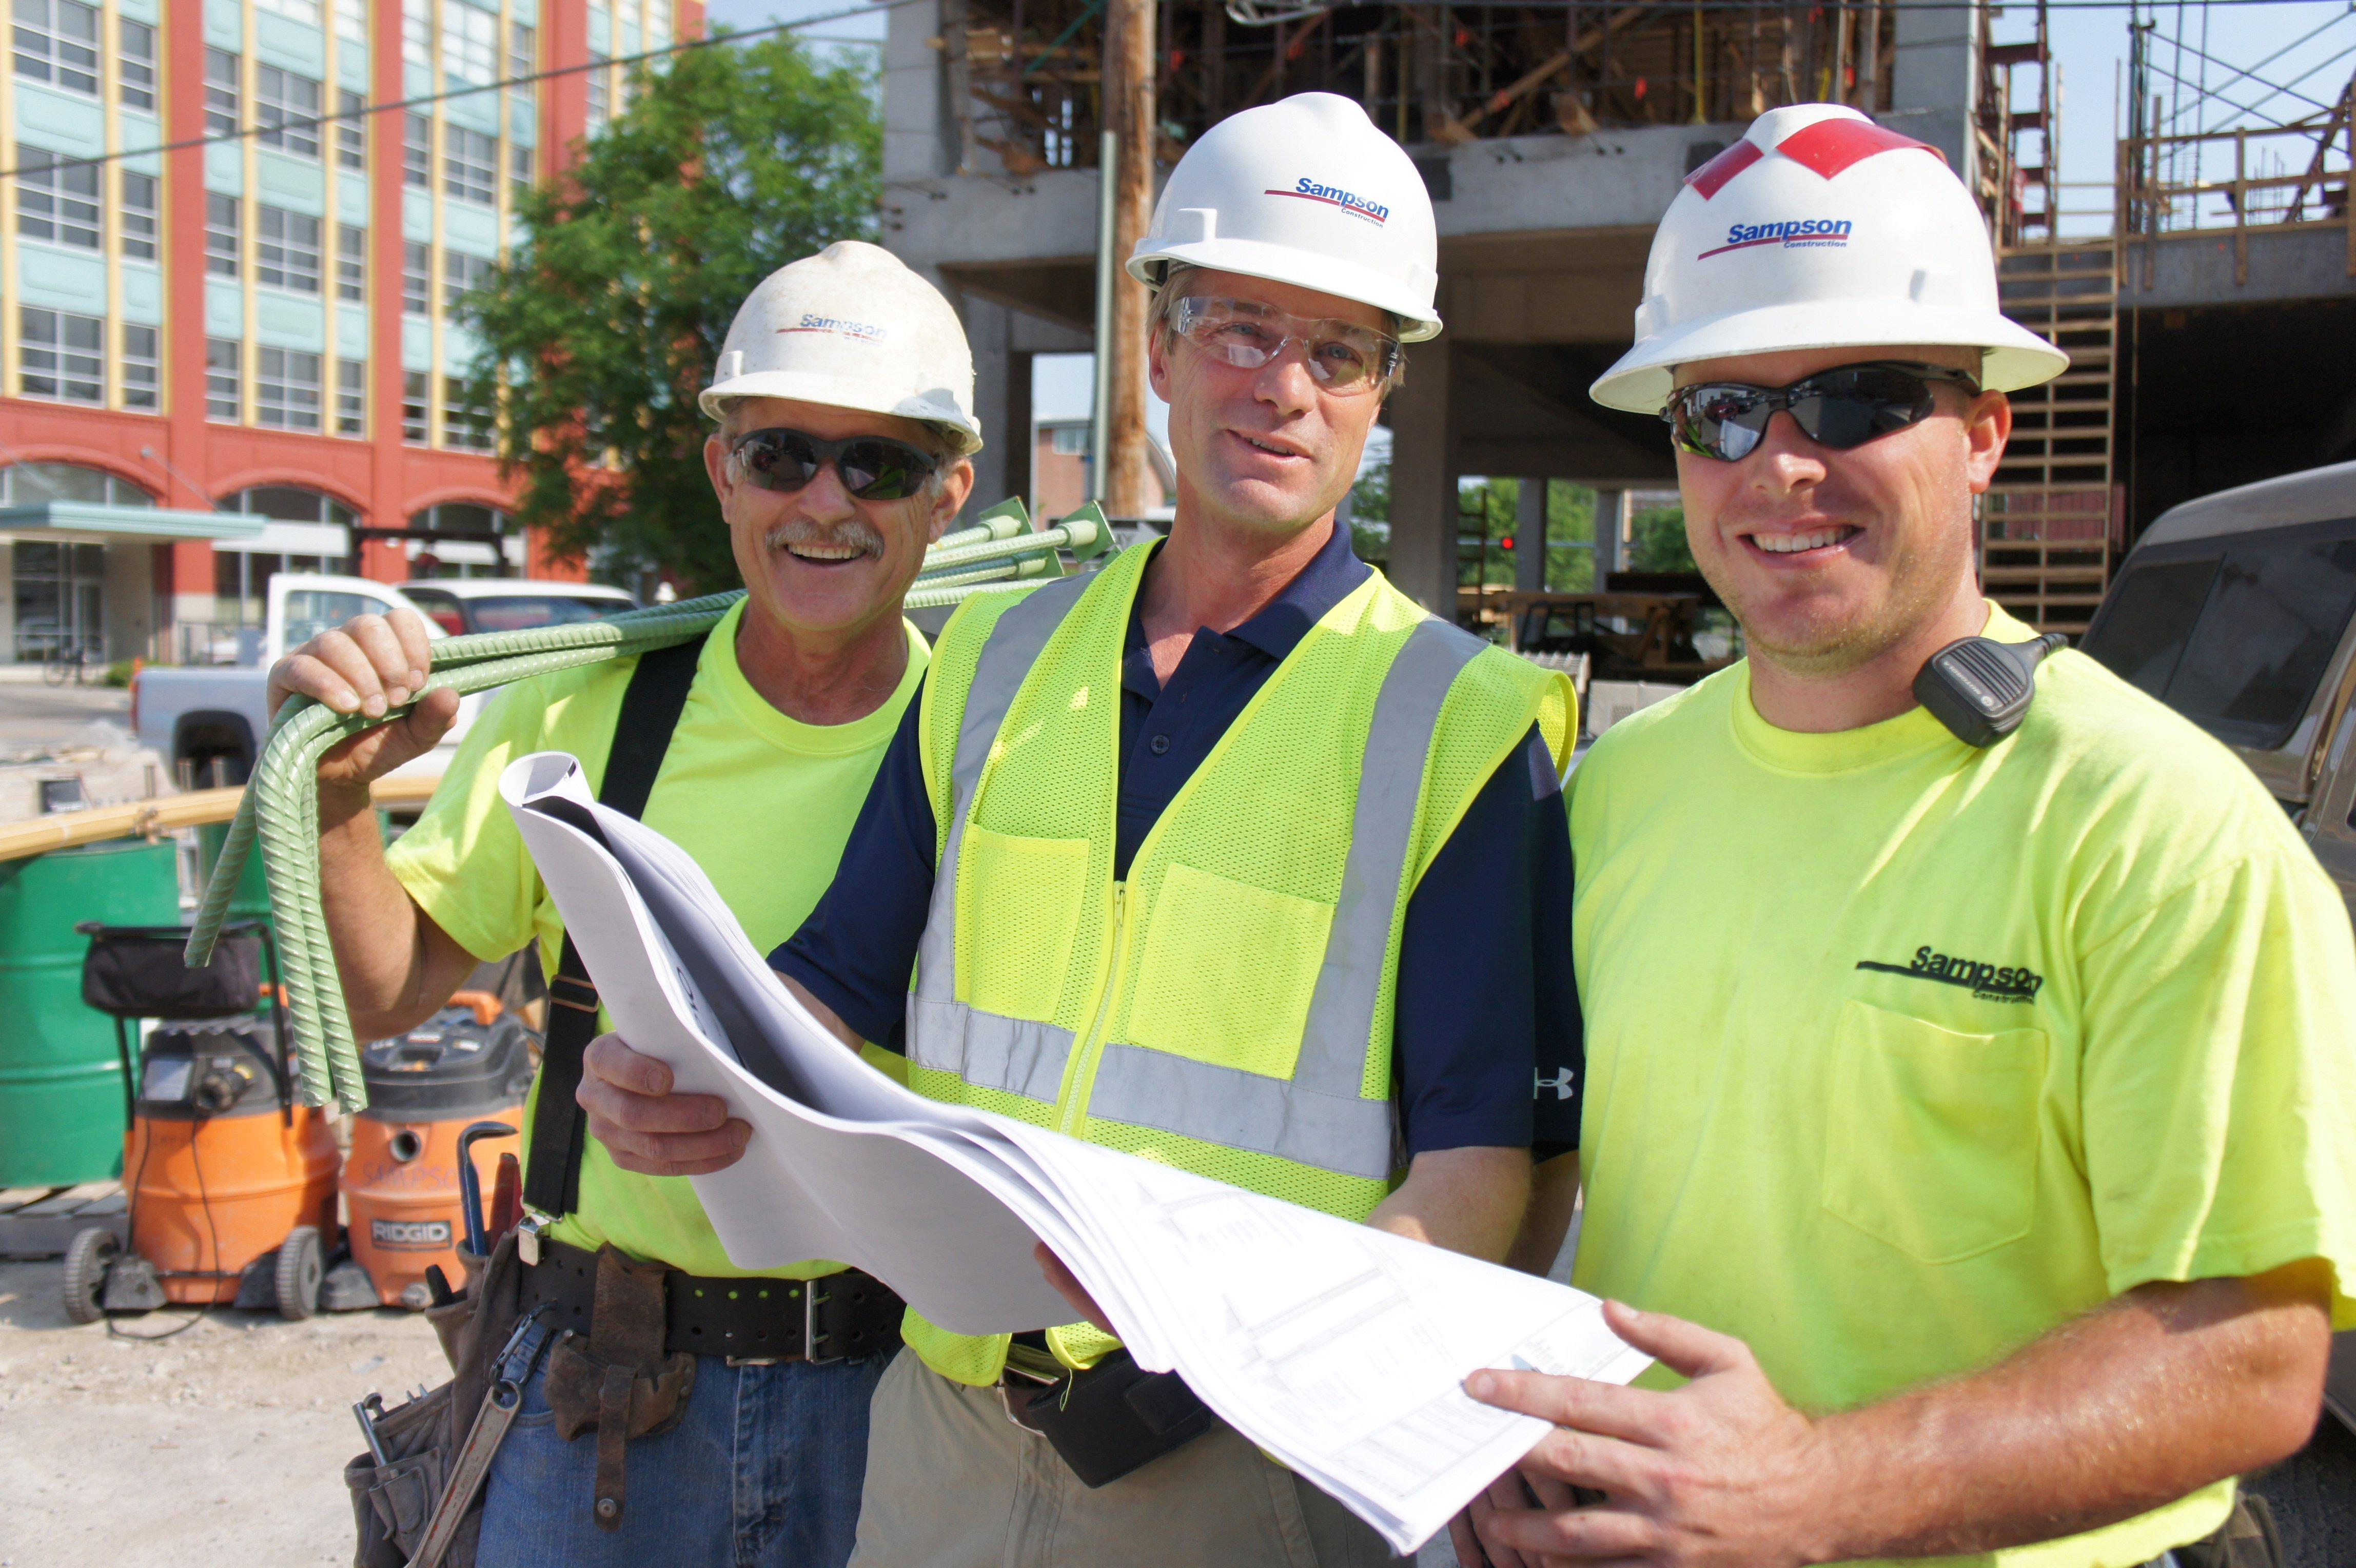helmet: (1593, 100, 2071, 411), (1132, 93, 1443, 350), (707, 240, 981, 467)
